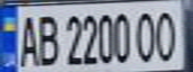0: (112, 8, 133, 64), (97, 9, 118, 65)
2: (60, 9, 84, 66), (81, 9, 100, 66)
A: (12, 10, 42, 67)
B: (33, 10, 60, 67)
O: (151, 6, 184, 63), (133, 7, 160, 63)
